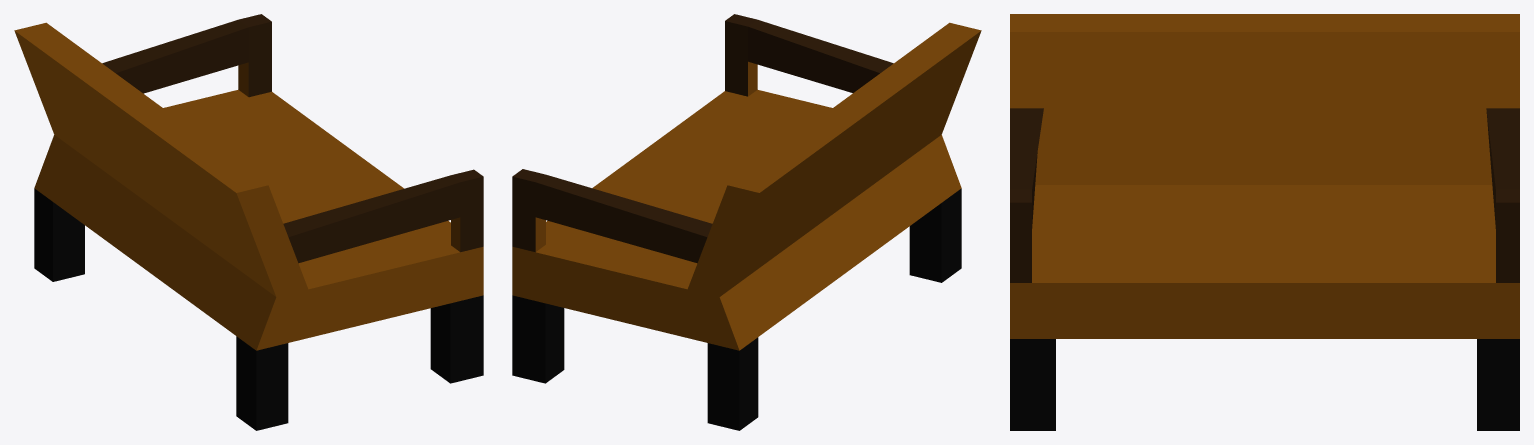
File: Banco.fbx
3 renders of one model, left to right at view 1: azimuth 30°, elevation 25°; view 2: azimuth 150°, elevation 25°; view 3: azimuth 270°, elevation 25°, orthographic. The views are drawn at different scales.
Parts seen in each view (by area): view 1: Cube.002, Cube.001, Cube; view 2: Cube.002, Cube.001, Cube; view 3: Cube.002, Cube.001, Cube.
Part boxes in pixels (bbox=[...]): Cube.002: bbox=[14, 22, 483, 350]; Cube.001: bbox=[102, 14, 483, 263]; Cube: bbox=[34, 188, 483, 430]; Cube.002: bbox=[512, 22, 981, 350]; Cube.001: bbox=[512, 14, 893, 263]; Cube: bbox=[512, 188, 961, 430]; Cube.002: bbox=[1010, 14, 1519, 338]; Cube.001: bbox=[1010, 108, 1519, 282]; Cube: bbox=[1010, 339, 1519, 430].
Bounding box in the file's own units: 260 × 244 × 405.
